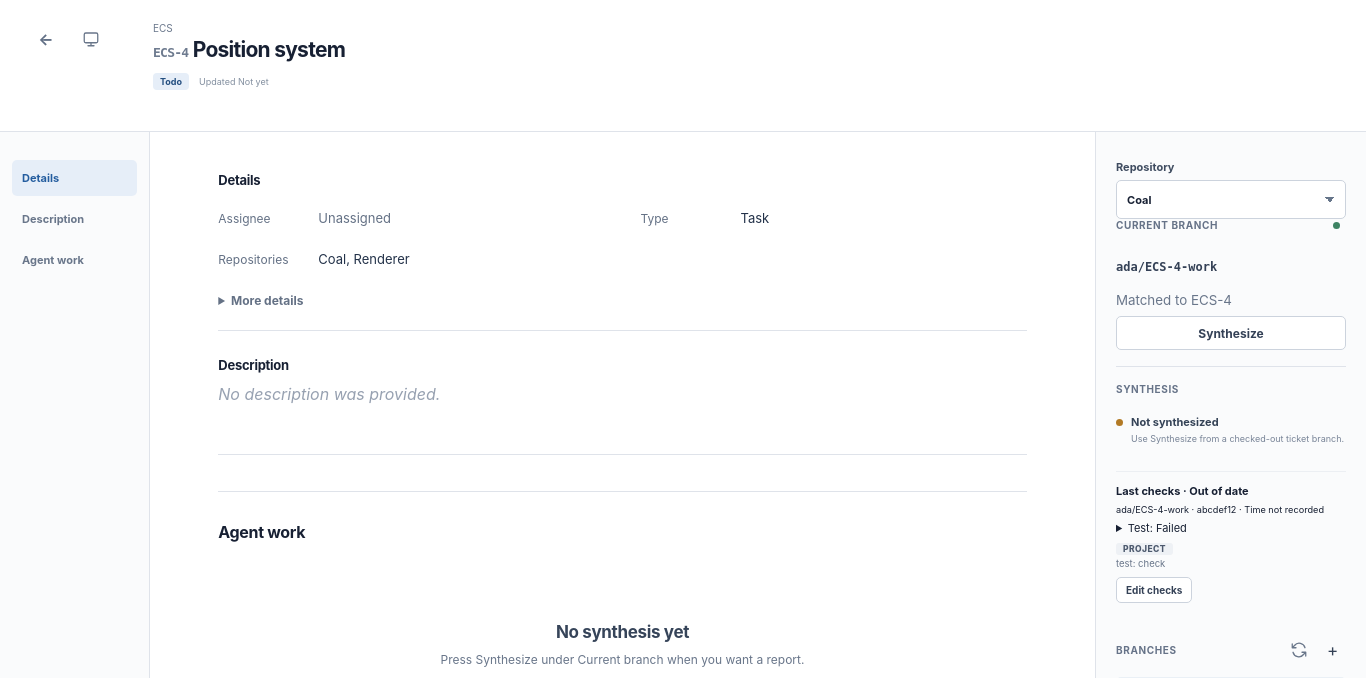
Bunker-native ticket work › shows deterministic failures without an agent report
The image size is (1366, 678).
Check: the text "Last checks · Out of date" is shown, box [1116,484,1249,498]
What coordinates should you click on to do the following:
click the heading "Test: Failed"
I would click on:
 (1157, 528)
Its box is [1128,521,1187,535].
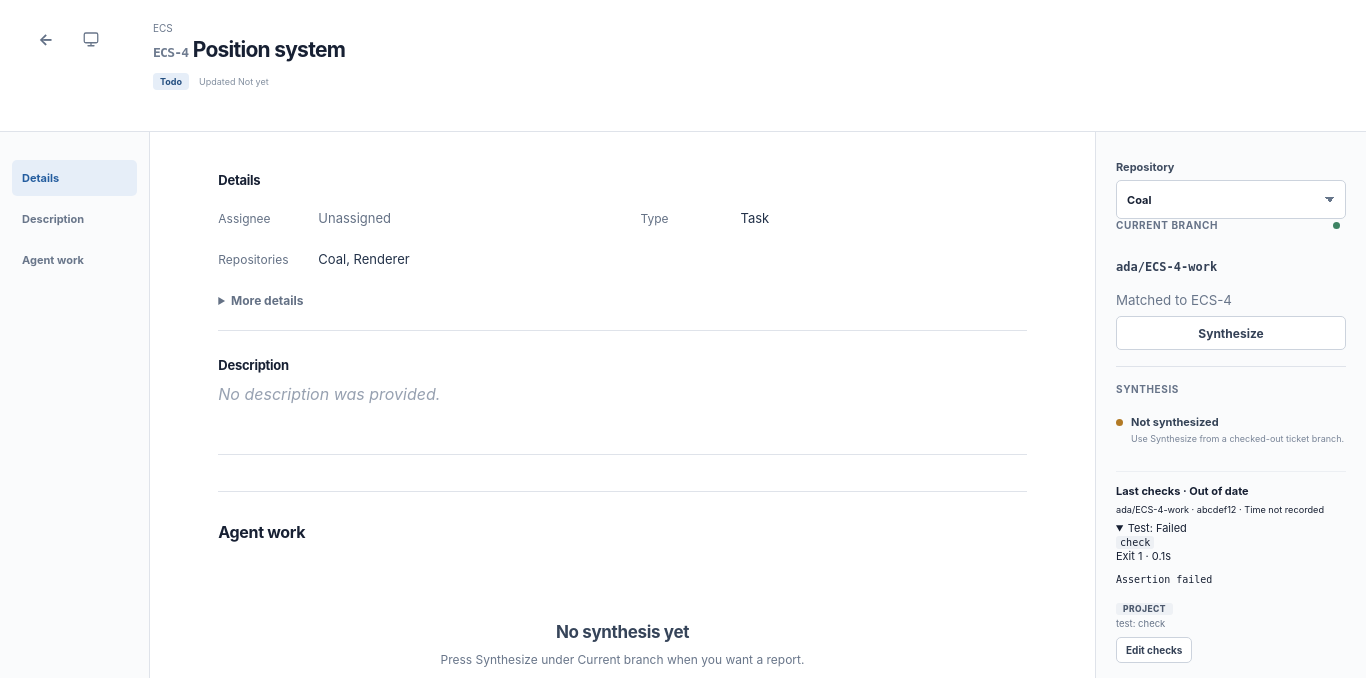
Check: the text "Assertion failed" is shown, box [1116,574,1212,585]
